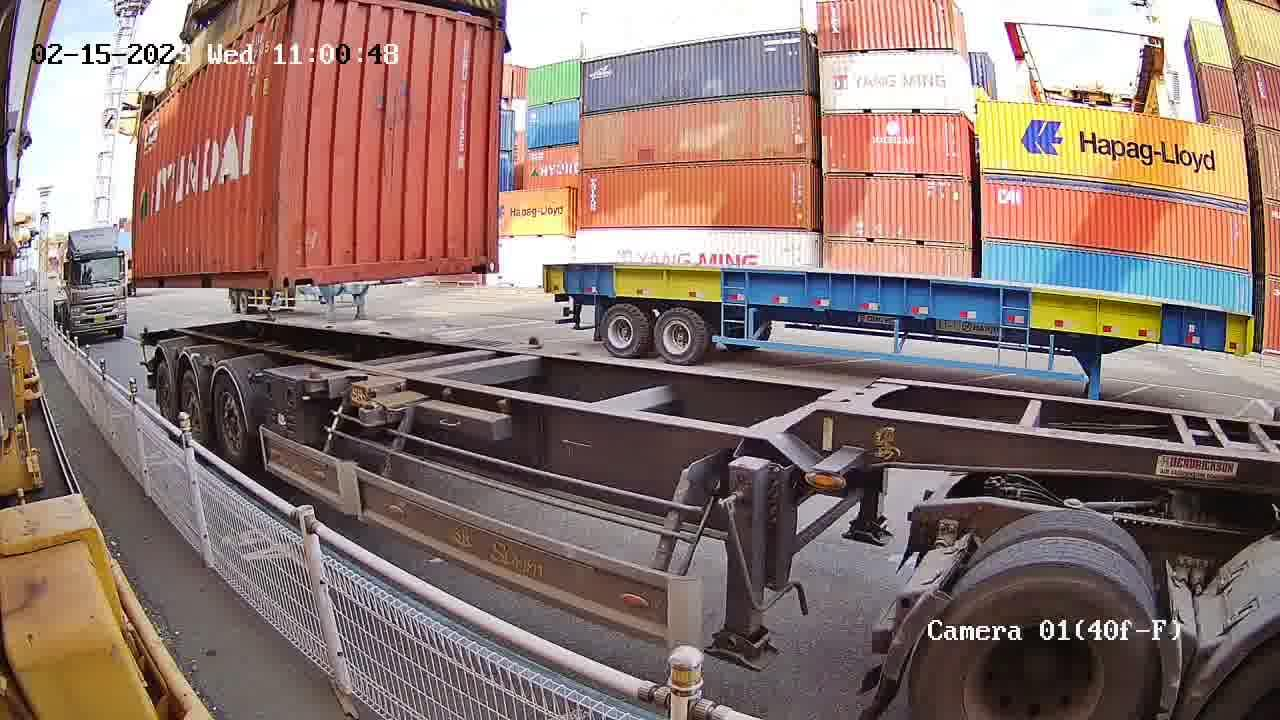Cone: (303, 366, 324, 392), (521, 333, 543, 352)
Hole_L: (280, 248, 317, 290)
Hole_R: (462, 236, 501, 277), (249, 249, 279, 293)
Tire: (911, 571, 1153, 719), (215, 377, 253, 468), (175, 371, 202, 436), (153, 364, 174, 417)
